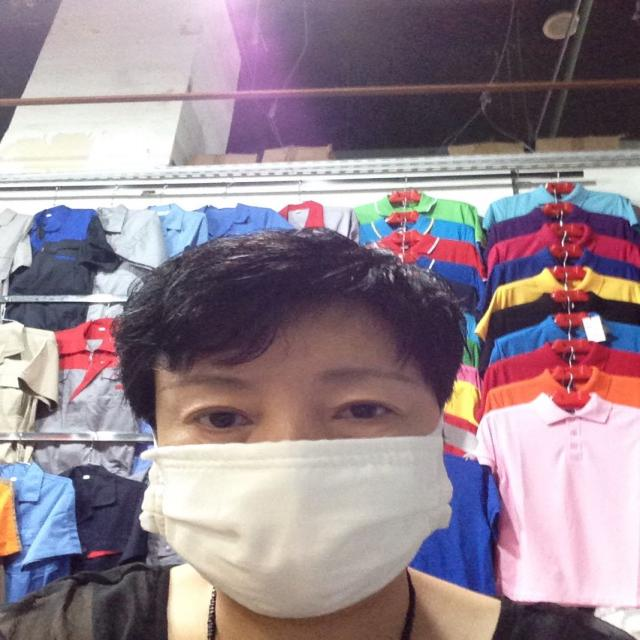mask: (160, 296, 434, 612)
